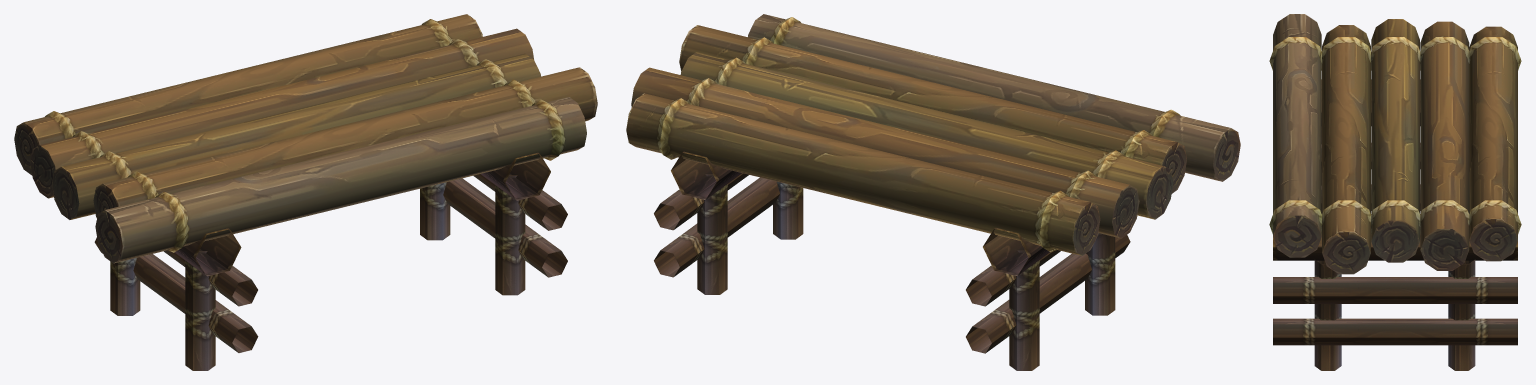
Rendered from scenes_beach_road01a.FBX.
The picture shows the model from 3 angles, left to right: view 1: azimuth 30°, elevation 25°; view 2: azimuth 150°, elevation 25°; view 3: azimuth 270°, elevation 25°; orthographic projection. The views are drawn at different scales.
Parts seen in each view (by area): view 1: scenes_beach_road01a; view 2: scenes_beach_road01a; view 3: scenes_beach_road01a.
Boxes of the visible parts, left/top/right/bottom form: scenes_beach_road01a: left=14, top=14, right=597, bottom=370; scenes_beach_road01a: left=626, top=14, right=1240, bottom=370; scenes_beach_road01a: left=1269, top=14, right=1521, bottom=370.
Bounding box in the file's own units: 635 × 235 × 310.
